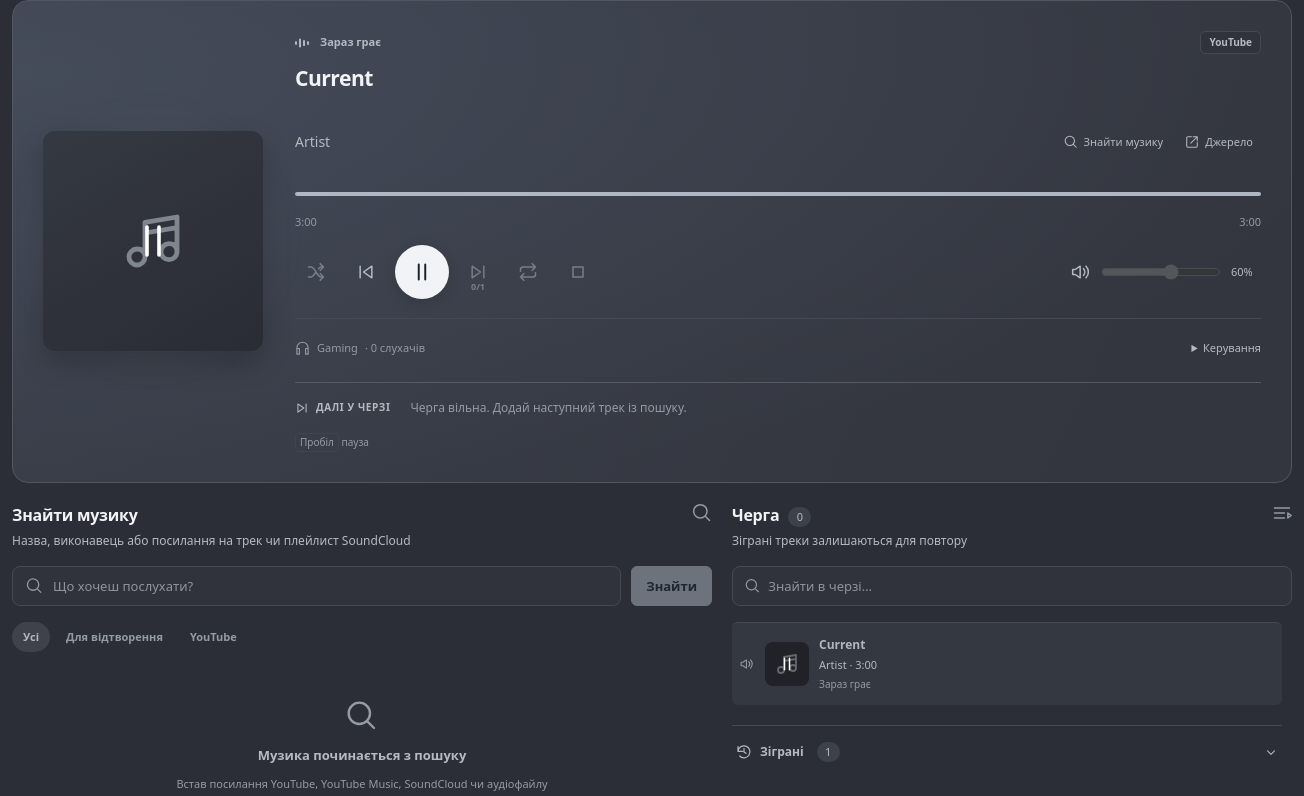
Media catalog search feedback › keeps the current row visible and lets users expand played tracks with authorized controls
Check: the list named "Поточний трек" is shown, box [732,622,1282,705]
Click the text "Зіграні" at (782, 752), box [760,743,804,761]
(page scrolled)
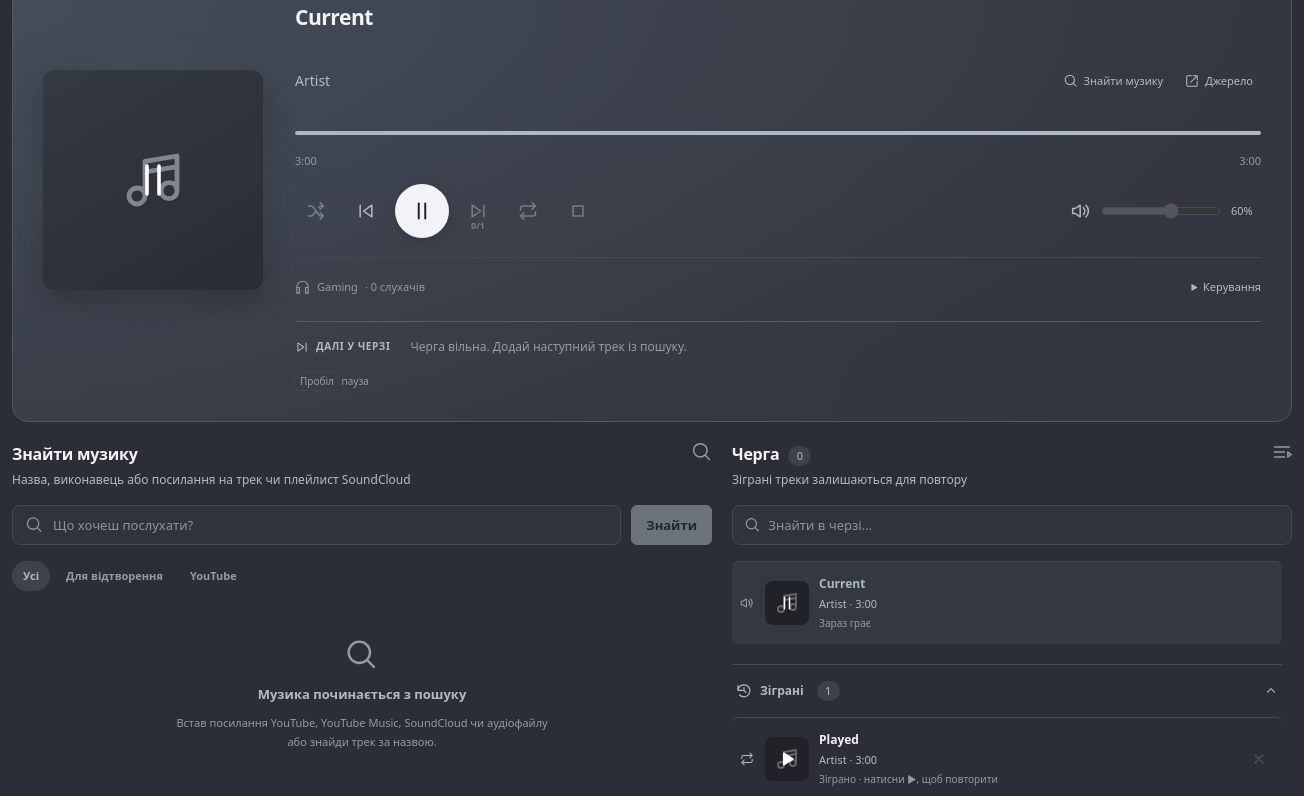
Check: the button named "Видалити: Played" is disabled, box [1244,741,1274,777]
Check: the button named "Повторити: Played" is enabled, box [765,737,809,781]
